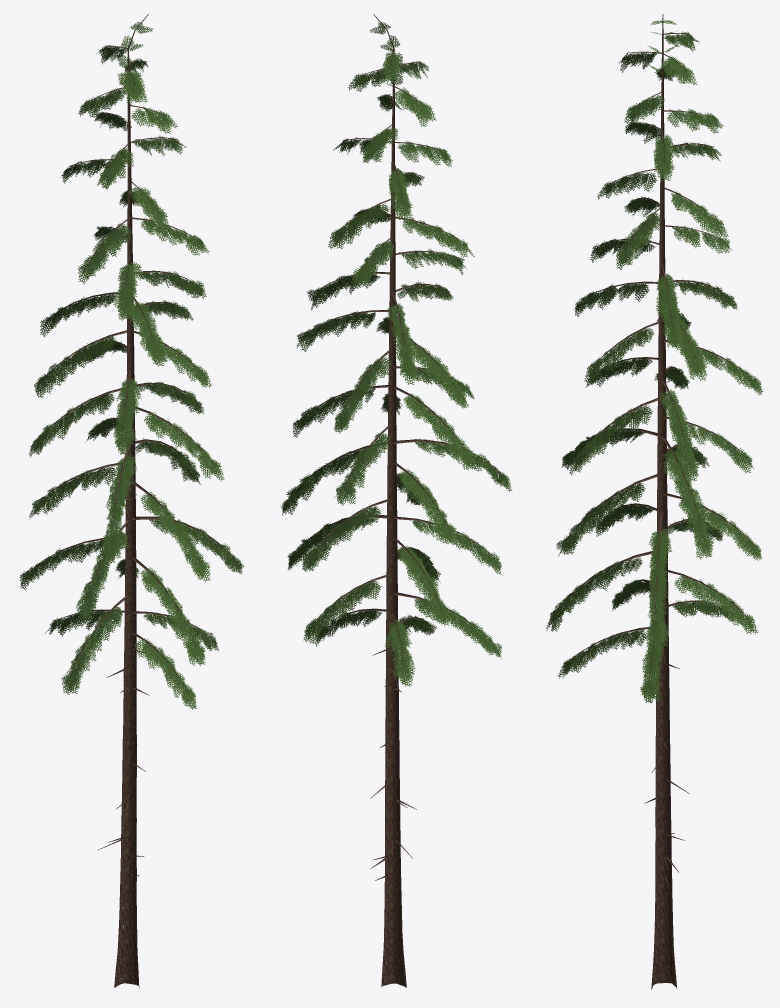
The model's file is hoh_western_hemlock.glb.
3 views of the same model, side by side, from view 1: azimuth 30°, elevation 25°; view 2: azimuth 150°, elevation 25°; view 3: azimuth 270°, elevation 25° (orthographic).
Parts seen in each view (by area): view 1: hoh_western_hemlock; view 2: hoh_western_hemlock; view 3: hoh_western_hemlock.
Boxes of the visible parts, left/top/right/bottom form: hoh_western_hemlock: left=19, top=14, right=243, bottom=988; hoh_western_hemlock: left=280, top=14, right=512, bottom=987; hoh_western_hemlock: left=546, top=14, right=763, bottom=989.
Size of the model in its own units: 7.12 by 32.15 by 6.55.
Materials: 2 (2 with a texture image).
